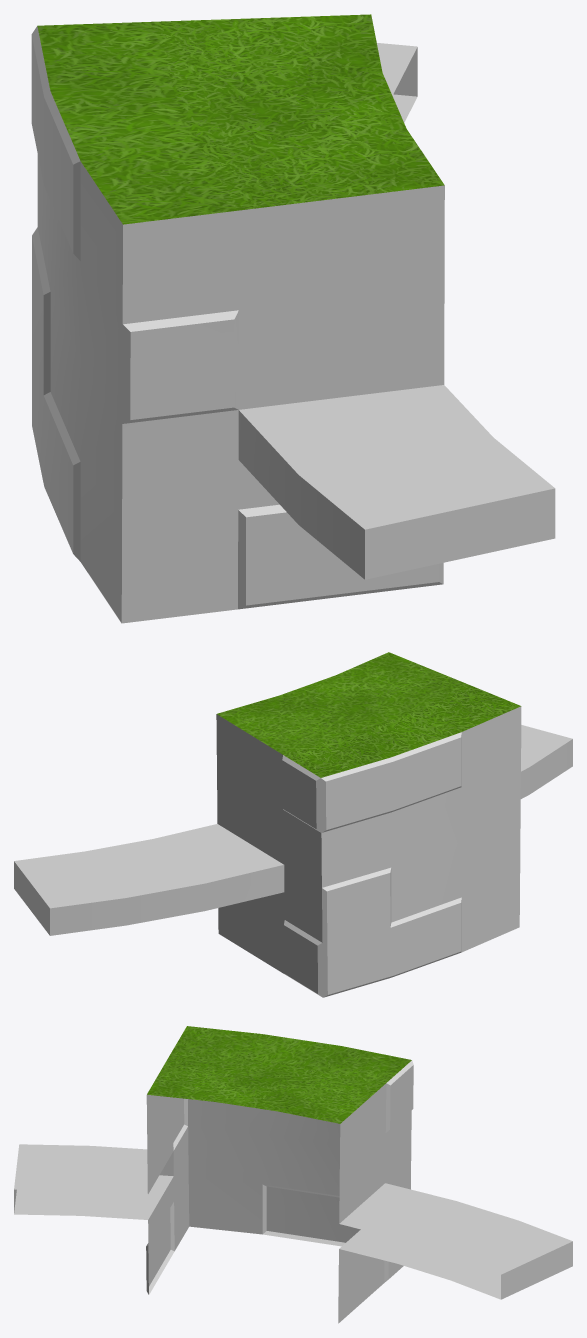
The model's file is SM_world_1_wall_section_2.fbx.
The picture shows the model from 3 angles, top to bottom: view 1: azimuth 30°, elevation 25°; view 2: azimuth 150°, elevation 25°; view 3: azimuth 270°, elevation 25°; orthographic projection. The views are drawn at different scales.
Visible parts, largest first — view 1: main_mesh.001; view 2: main_mesh.001; view 3: main_mesh.001.
Part boxes in pixels (bbox=[...]): main_mesh.001: bbox=[31, 14, 555, 623]; main_mesh.001: bbox=[14, 652, 572, 997]; main_mesh.001: bbox=[14, 1026, 572, 1323].
Bounding box in the file's own units: 33.16 × 52.74 × 20.87.
